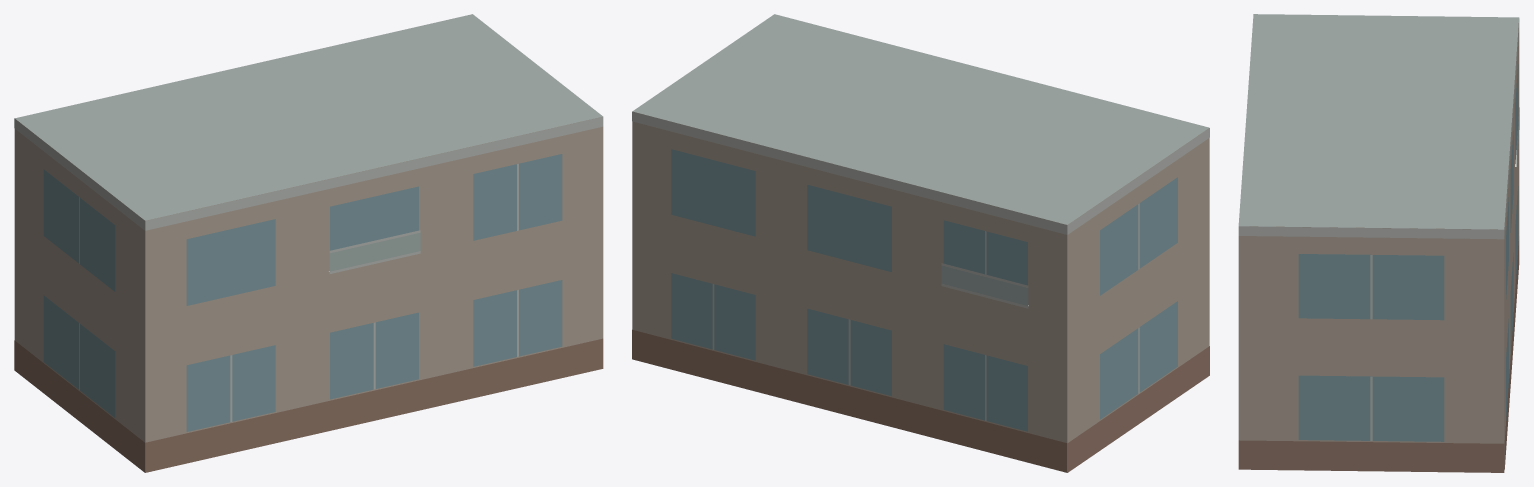
File: survey-upis-32948430.glb
The picture shows the model from 3 angles, left to right: view 1: azimuth 30°, elevation 25°; view 2: azimuth 150°, elevation 25°; view 3: azimuth 270°, elevation 25°; orthographic projection. The views are drawn at different scales.
Parts seen in each view (by area): view 1: survey-upis-32948430.tmp; view 2: survey-upis-32948430.tmp; view 3: survey-upis-32948430.tmp.
Part boxes in pixels (x1,y1,x2,y2): survey-upis-32948430.tmp: [14, 14, 603, 472]; survey-upis-32948430.tmp: [632, 14, 1209, 472]; survey-upis-32948430.tmp: [1238, 14, 1519, 472].
Bounding box in the file's own units: 11.6 × 6.1 × 6.39.
